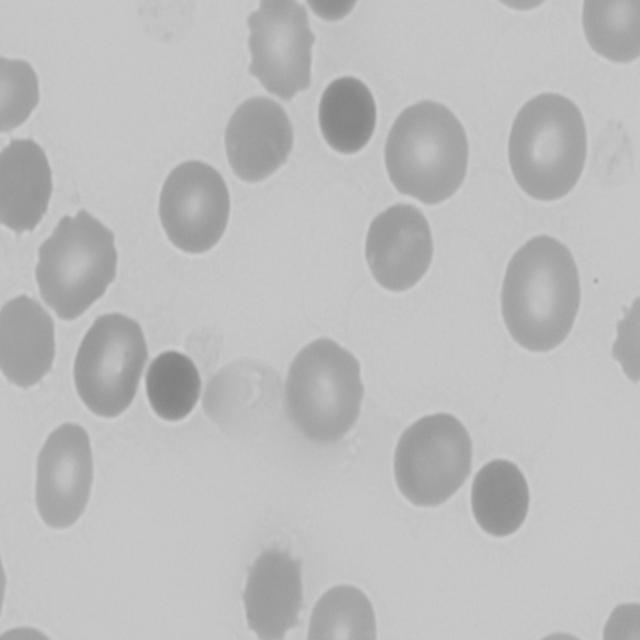RBC: (498, 230, 584, 354), (380, 98, 470, 207), (504, 90, 590, 202), (64, 310, 148, 420), (282, 336, 366, 446), (34, 215, 120, 322), (386, 412, 474, 514), (152, 158, 232, 256), (32, 418, 98, 536), (244, 0, 317, 100), (358, 202, 434, 298), (222, 92, 297, 184), (0, 291, 57, 390), (0, 135, 55, 236), (304, 581, 381, 640), (576, 0, 640, 68), (0, 56, 42, 140), (612, 279, 640, 388), (594, 600, 640, 640), (0, 520, 9, 640)
Spherocyte: (470, 456, 532, 540), (316, 76, 379, 156), (144, 349, 202, 423), (305, 0, 364, 24)
